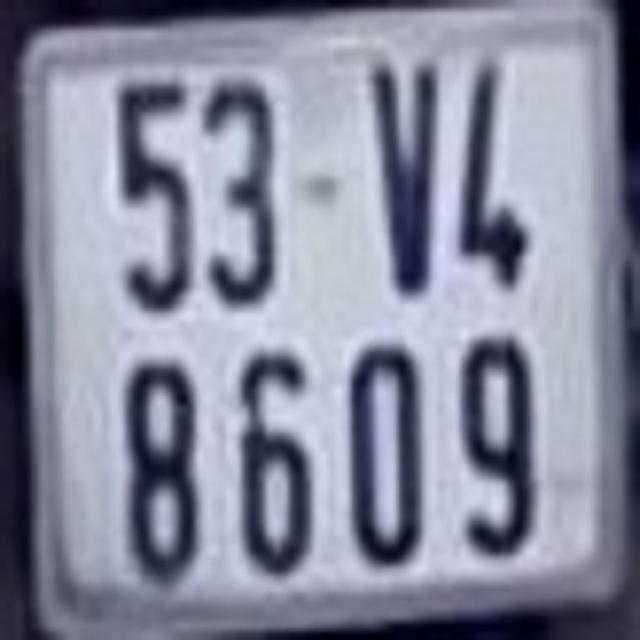0: (348, 341, 422, 562)
3: (202, 75, 276, 303)
4: (459, 59, 530, 287)
5: (112, 73, 197, 313)
6: (240, 346, 315, 575)
8: (123, 359, 196, 568)
9: (456, 337, 533, 560)
V: (367, 58, 441, 292)
